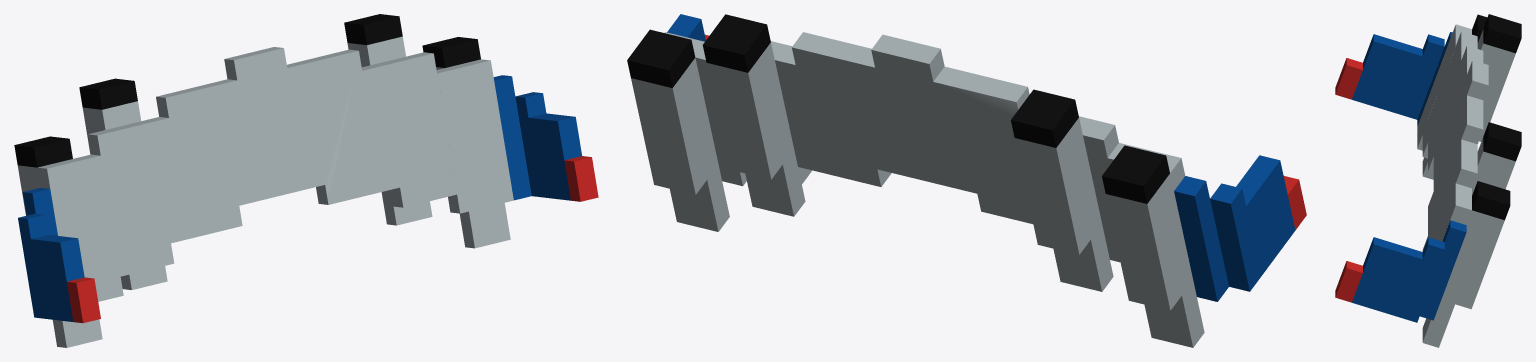
Rendered from hat_premium_PixelAirplane.glb.
3 views of the same model, side by side, from view 1: azimuth 30°, elevation 25°; view 2: azimuth 150°, elevation 25°; view 3: azimuth 270°, elevation 25° (orthographic). The views are drawn at different scales.
Parts seen in each view (by area): view 1: hat_premium_PixelAirplane; view 2: hat_premium_PixelAirplane; view 3: hat_premium_PixelAirplane.
Boxes of the visible parts, <box> form: hat_premium_PixelAirplane: <box>14,14,598,347</box>; hat_premium_PixelAirplane: <box>627,14,1306,347</box>; hat_premium_PixelAirplane: <box>1335,14,1521,347</box>.
Bounding box in the file's own units: 0.887 × 0.3682 × 0.3317.
